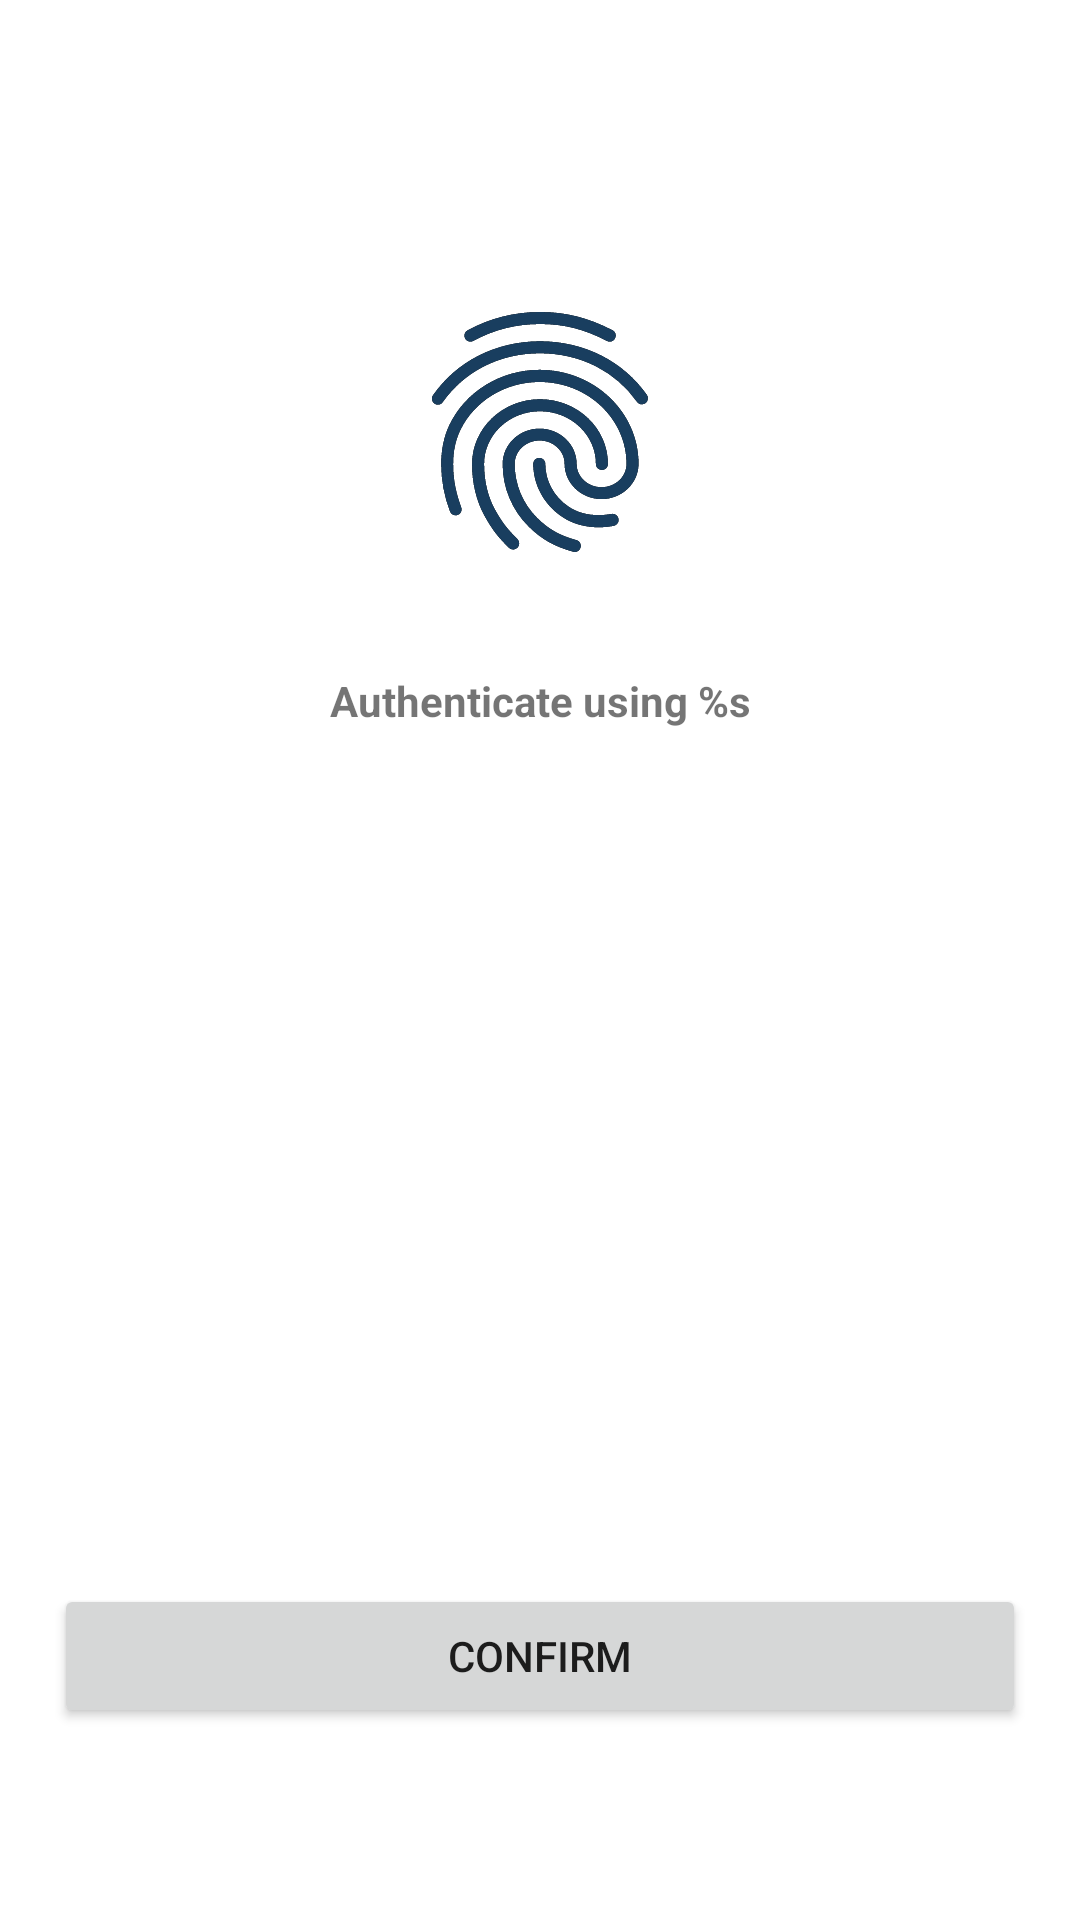

Where to tap for icons on this 1080×1920 app screen, as (x=x, y=y):
authenticator selection fingerprint: (x=540, y=432)
